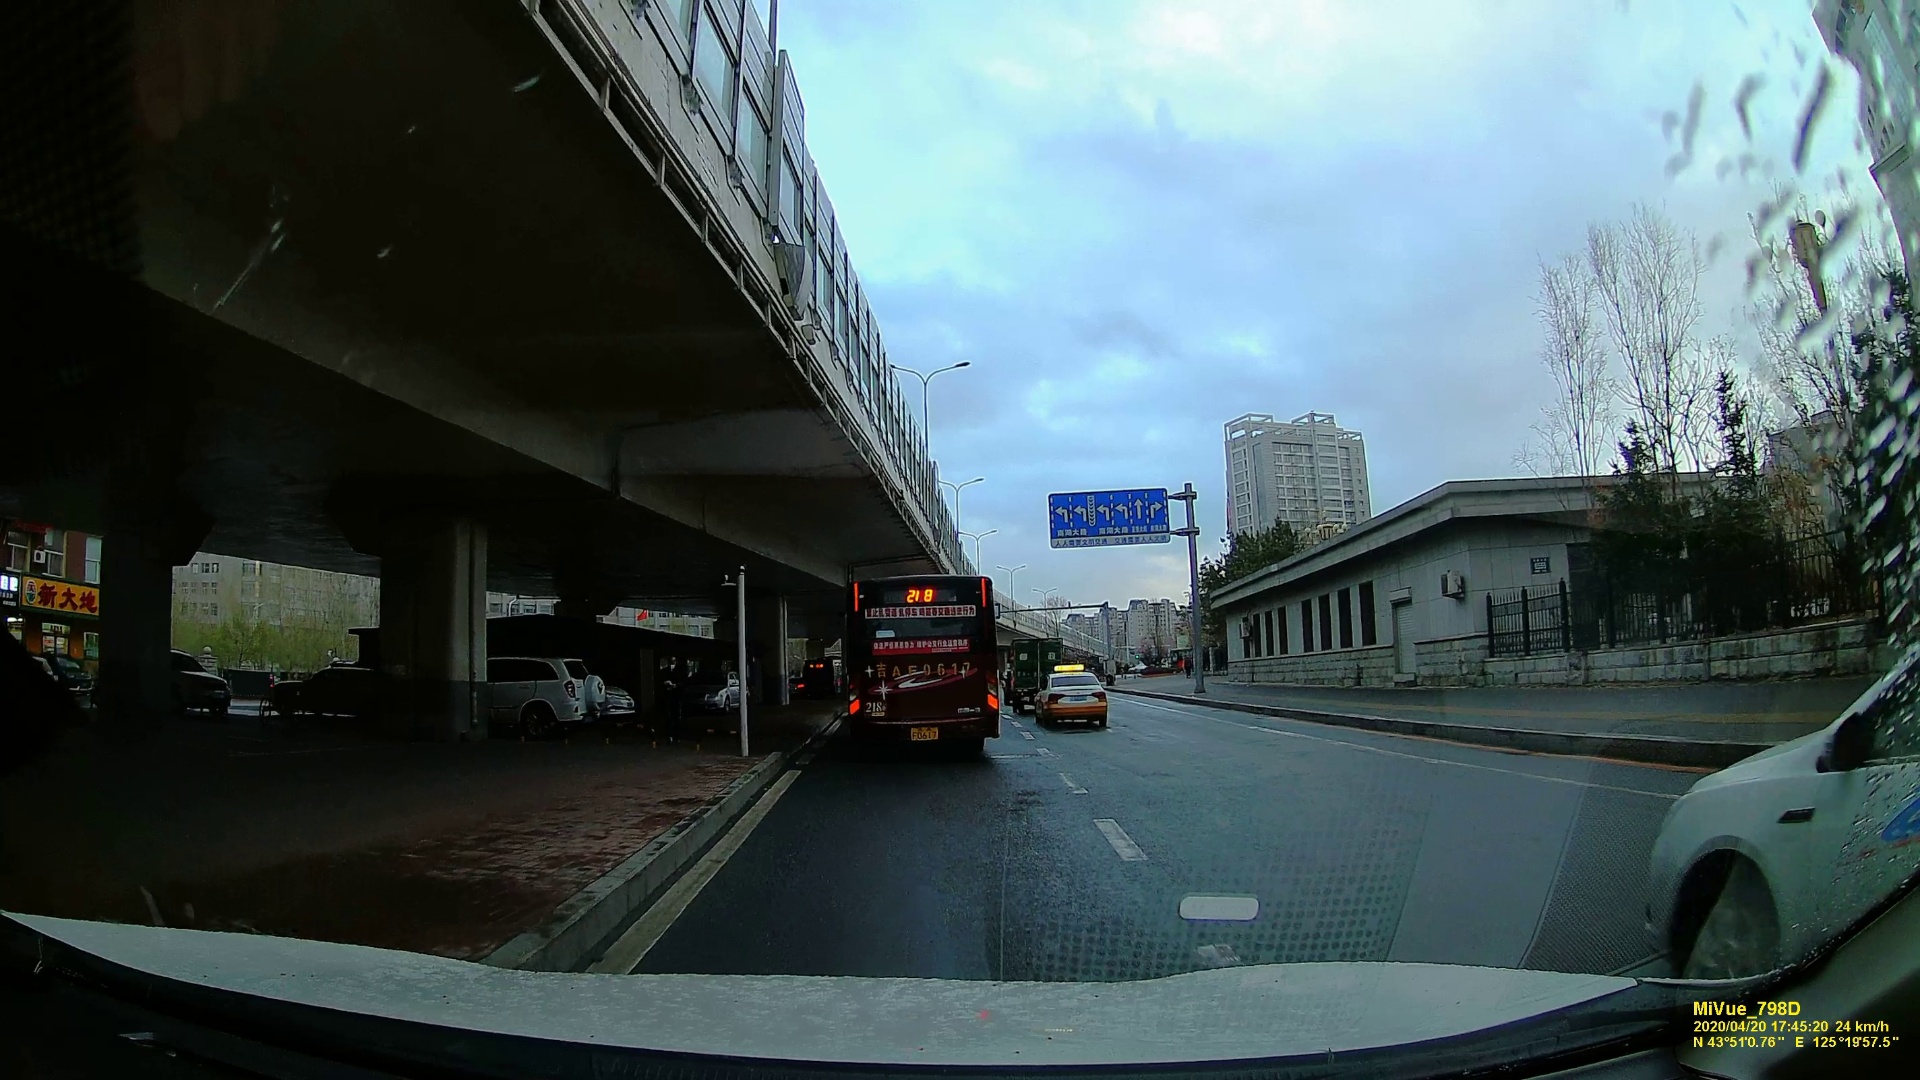bus: (845, 578, 997, 756)
traffic_sign: (1050, 495, 1164, 542)
truck: (1007, 636, 1058, 711)
vehicle: (1636, 647, 1919, 957), (487, 654, 601, 735), (1036, 669, 1110, 732)
